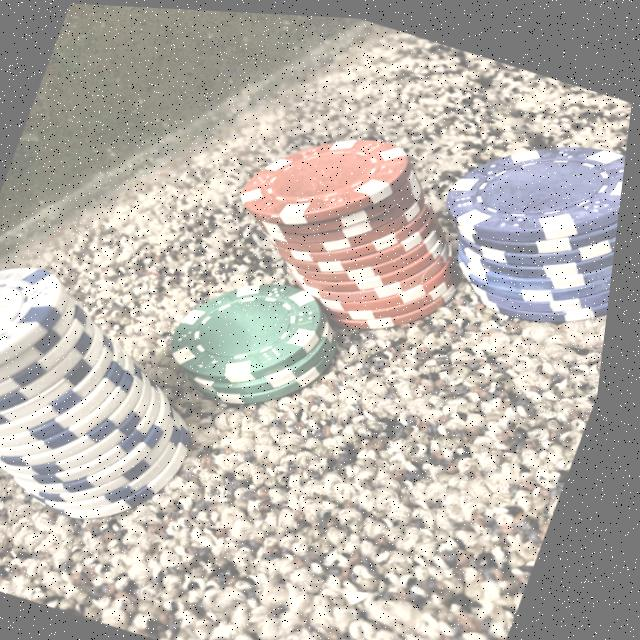Chip: (186, 66, 514, 359), (0, 213, 269, 565), (382, 67, 635, 364), (151, 222, 368, 434)
